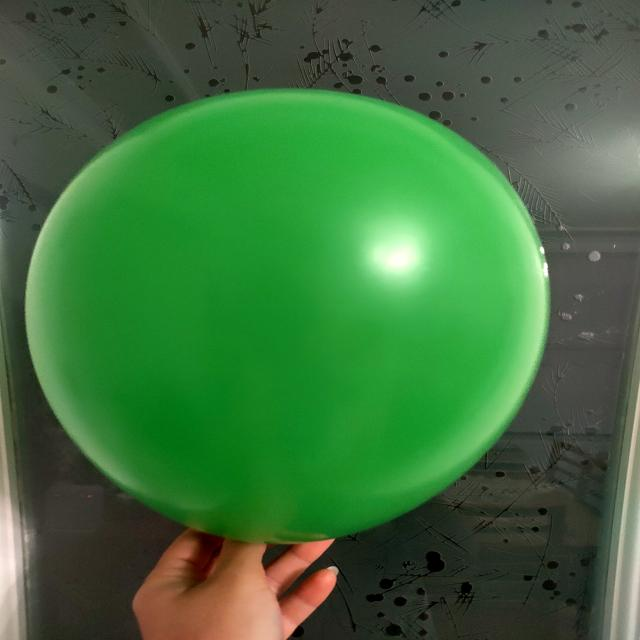green: (27, 92, 547, 545)
